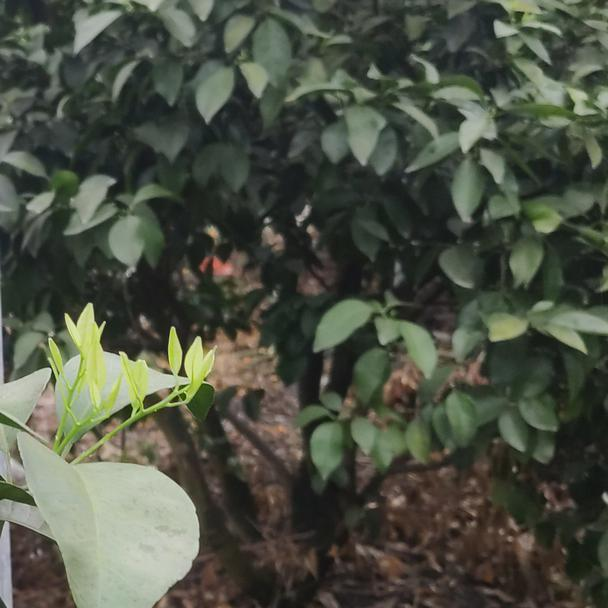shoot: (97, 343, 224, 446), (45, 308, 117, 445)
